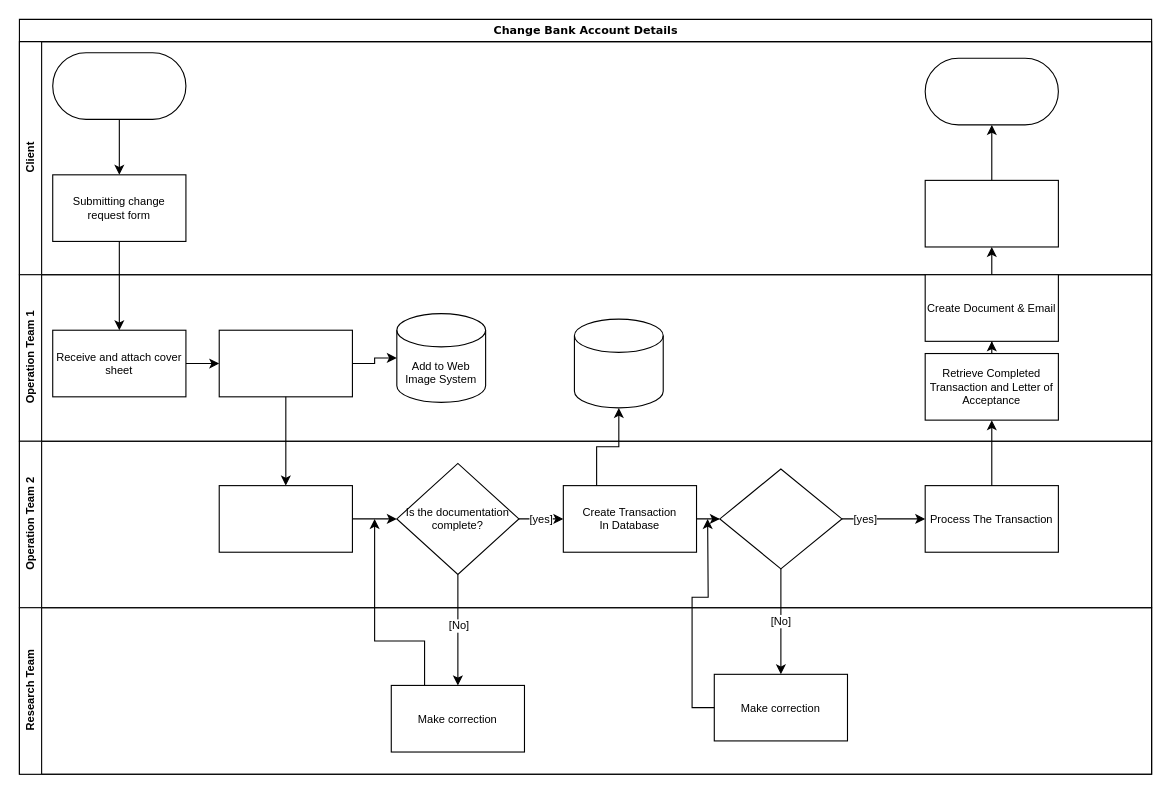
This 1171x794 diagram has some shape labels left out. The centre of each missing label's shape, as x and y in pixels:
End: the point at 991,91
Is the address known?: the point at 780,518
Receive Confirmation: the point at 991,213
Retrieve Web Image System: the point at 285,518
Save Transaction in Database: the point at 618,363
Scan Document & Add to Web Image System: the point at 285,363
Start: the point at 119,85
